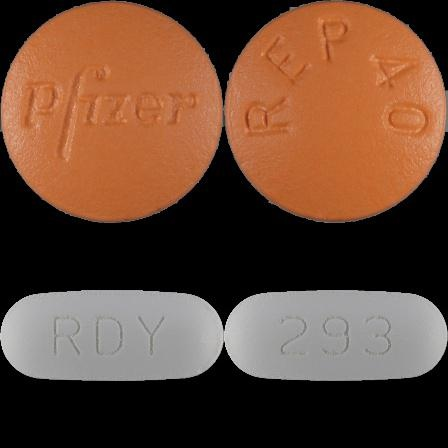21695-871: (0, 0, 224, 224)
